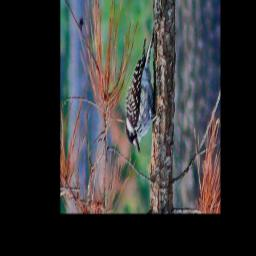Woodpecker: (120, 23, 165, 160)
